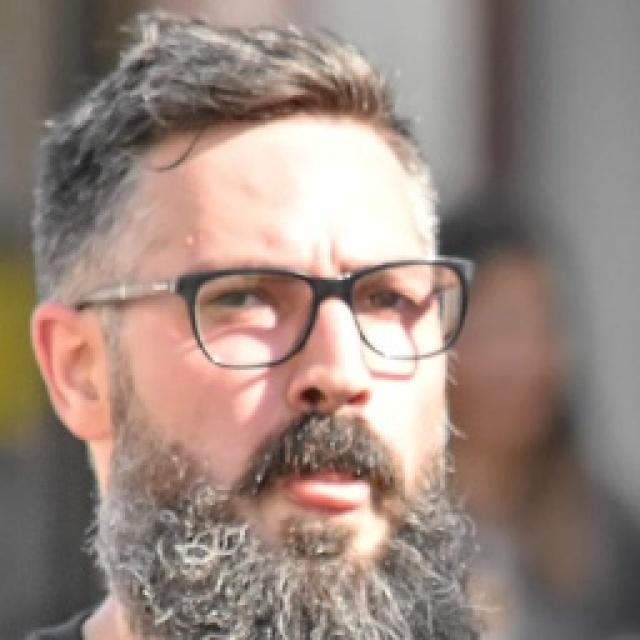glasses: (71, 254, 479, 377)
